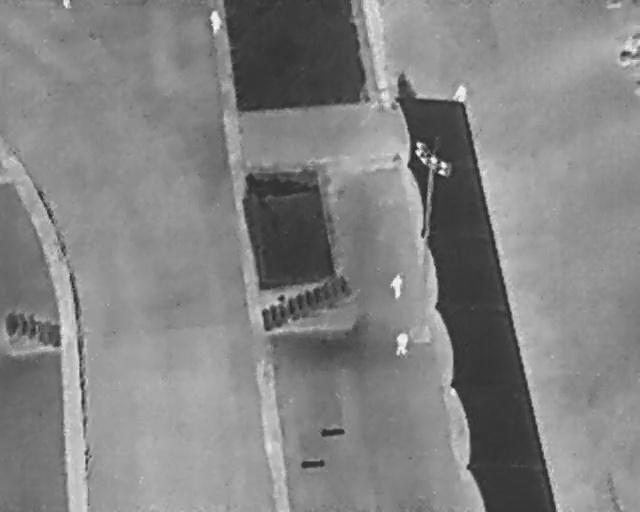Bicycle: (616, 34, 640, 67)
DontCare: (451, 82, 467, 103)
Person: (389, 270, 406, 301), (394, 329, 410, 358), (208, 7, 222, 37), (61, 0, 71, 9)
